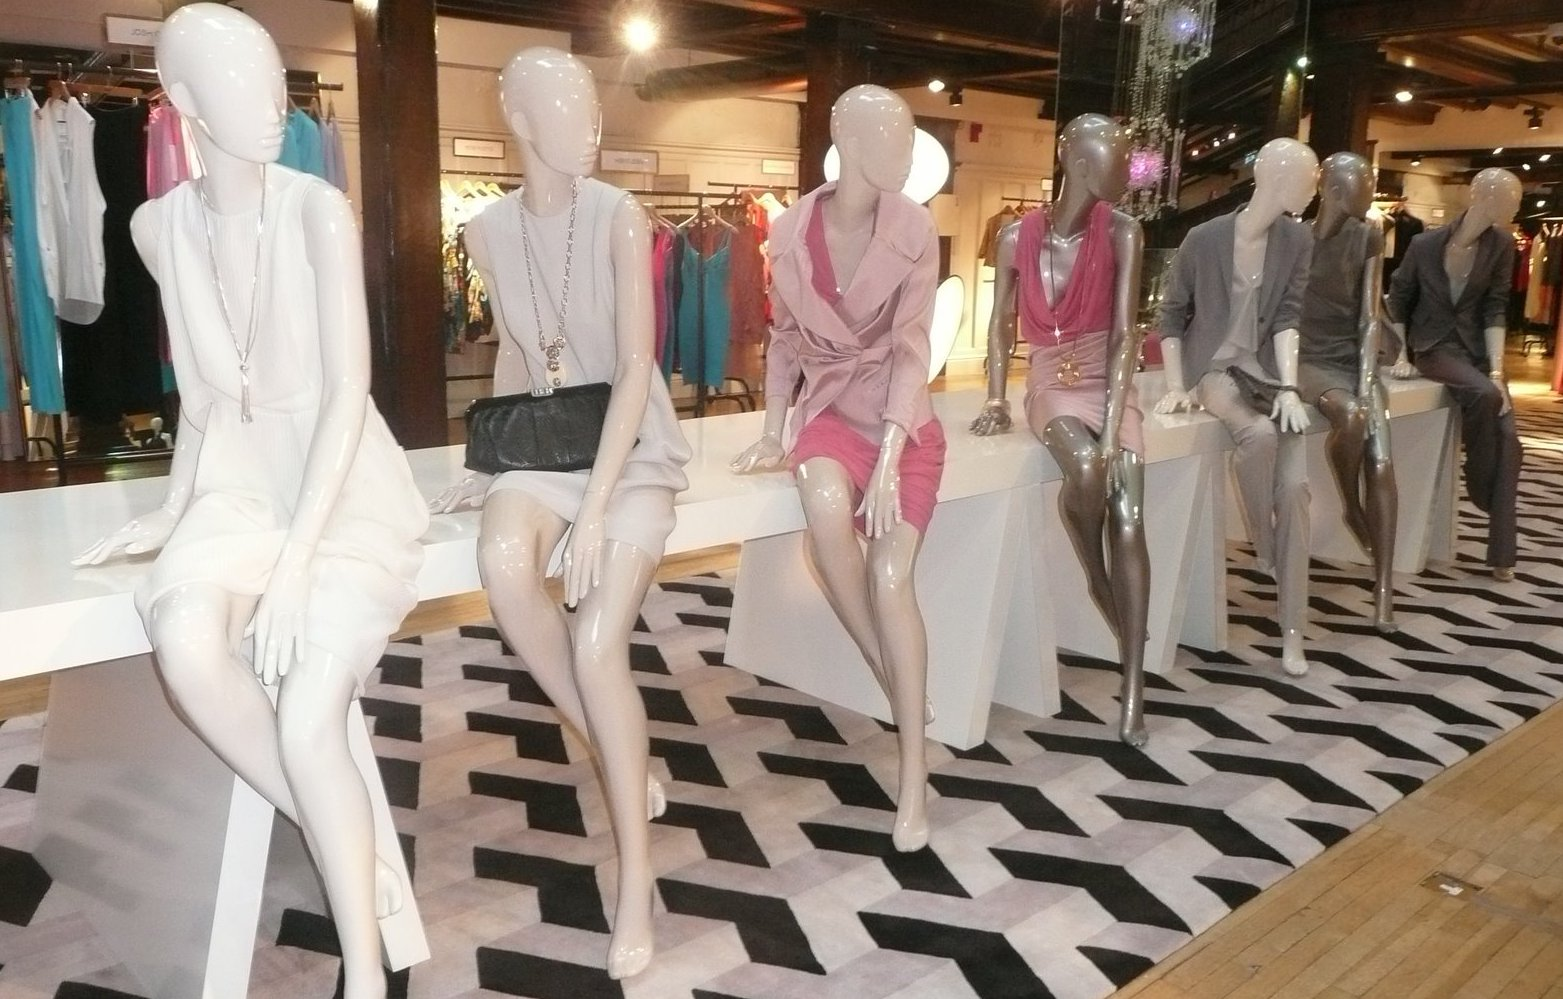person-like: (65, 2, 444, 998), (433, 38, 697, 991), (723, 69, 970, 865), (960, 106, 1160, 754), (1148, 127, 1334, 681), (1383, 159, 1531, 586), (1298, 141, 1408, 644)
